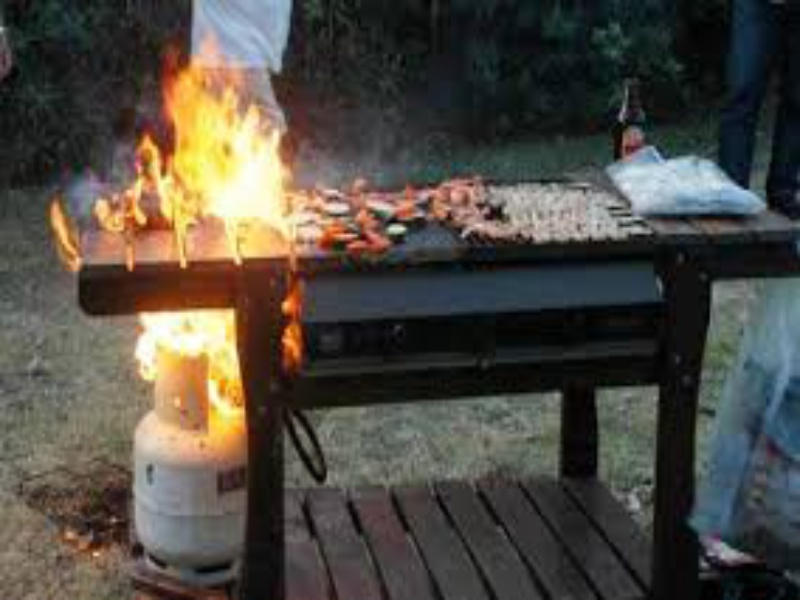fire: (173, 75, 290, 236), (133, 310, 241, 405), (127, 137, 173, 234), (87, 186, 148, 239), (41, 193, 81, 267)
